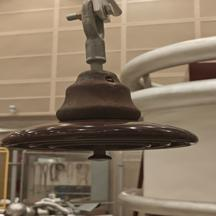insulator: (2, 67, 206, 168)
